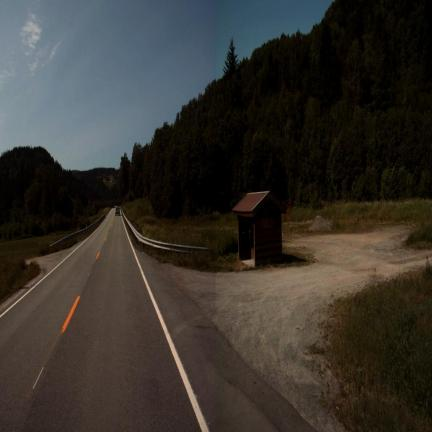Road: (0, 210, 312, 430)
